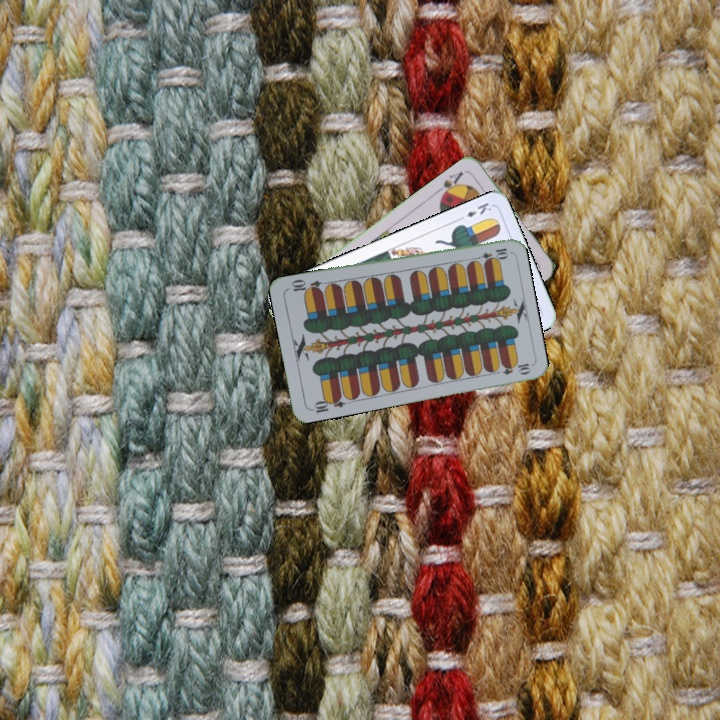E10: (307, 392, 347, 416), (470, 244, 511, 263)
EK: (454, 198, 494, 223)
SA: (433, 167, 466, 200)
